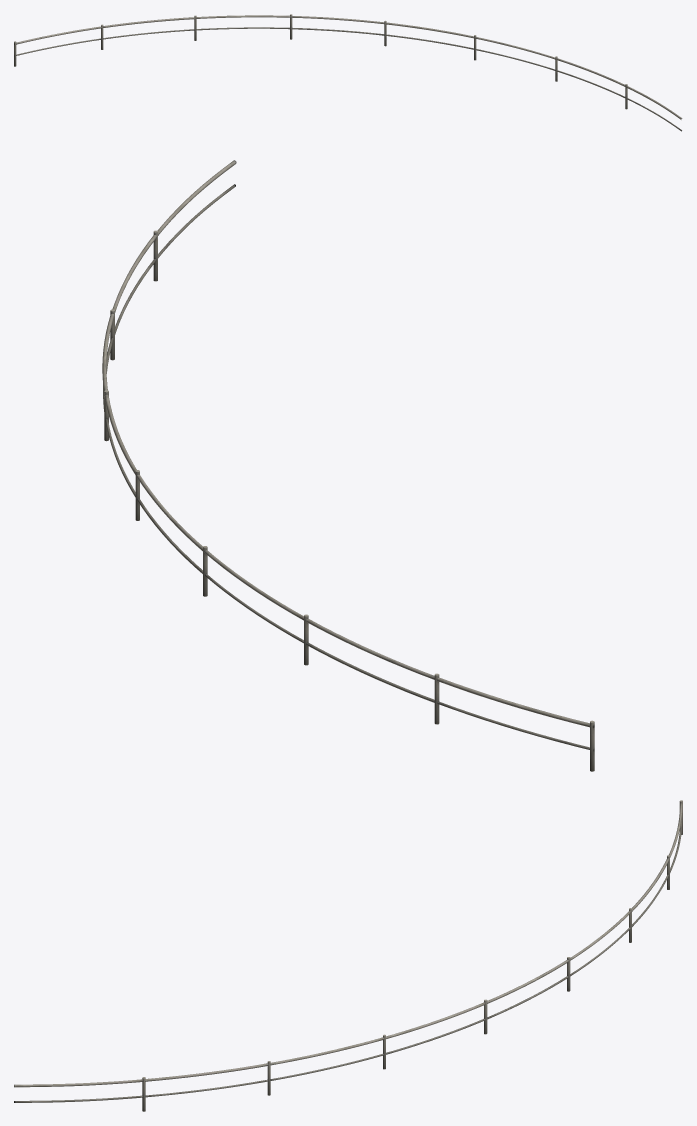
The picture shows the model from 3 angles, top to bottom: view 1: azimuth 30°, elevation 25°; view 2: azimuth 150°, elevation 25°; view 3: azimuth 270°, elevation 25°; orthographic projection. The views are drawn at different scales.
Parts seen in each view (by area): view 1: body0_model0_lod0_mesh0; view 2: body0_model0_lod0_mesh0; view 3: body0_model0_lod0_mesh0.
Boxes of the visible parts, x1,y1,x2,y2 form: body0_model0_lod0_mesh0: (14, 14, 682, 131); body0_model0_lod0_mesh0: (102, 160, 594, 771); body0_model0_lod0_mesh0: (14, 800, 682, 1111).
Bounding box in the file's own units: 835 × 45.97 × 833.
1 material, 1 textured.
